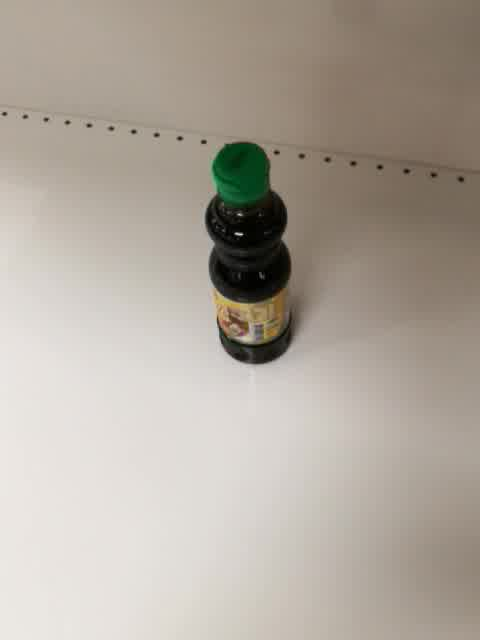cookingoil: (200, 138, 296, 368)
